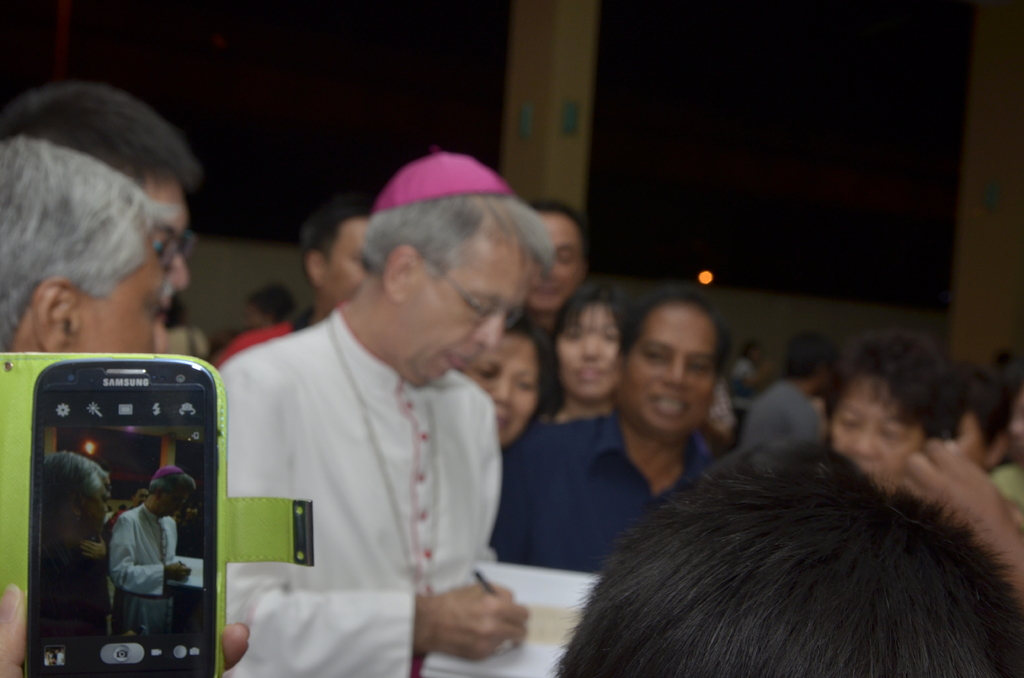Mobile-phone: (22, 360, 226, 671)
